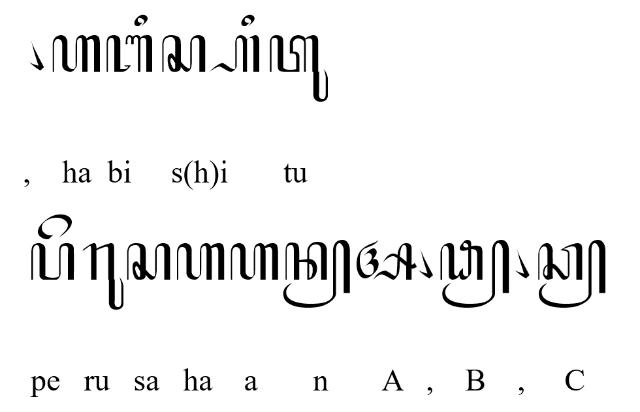-P: (439, 239, 509, 309)
-c: (538, 239, 606, 309)
-n: (284, 239, 350, 309)
A: (356, 240, 418, 282)
_h: (208, 35, 260, 73)
b: (106, 34, 152, 74)
e: (36, 213, 72, 240)
h: (230, 242, 280, 282), (176, 244, 224, 283), (51, 34, 100, 72)
i: (134, 13, 150, 27), (241, 14, 255, 26)
kom: (514, 249, 530, 279), (418, 252, 434, 280), (30, 42, 44, 70)
p: (30, 243, 74, 281)
ru: (82, 243, 124, 311)
s: (126, 242, 172, 282), (160, 34, 206, 72)
tu: (270, 34, 328, 102)
